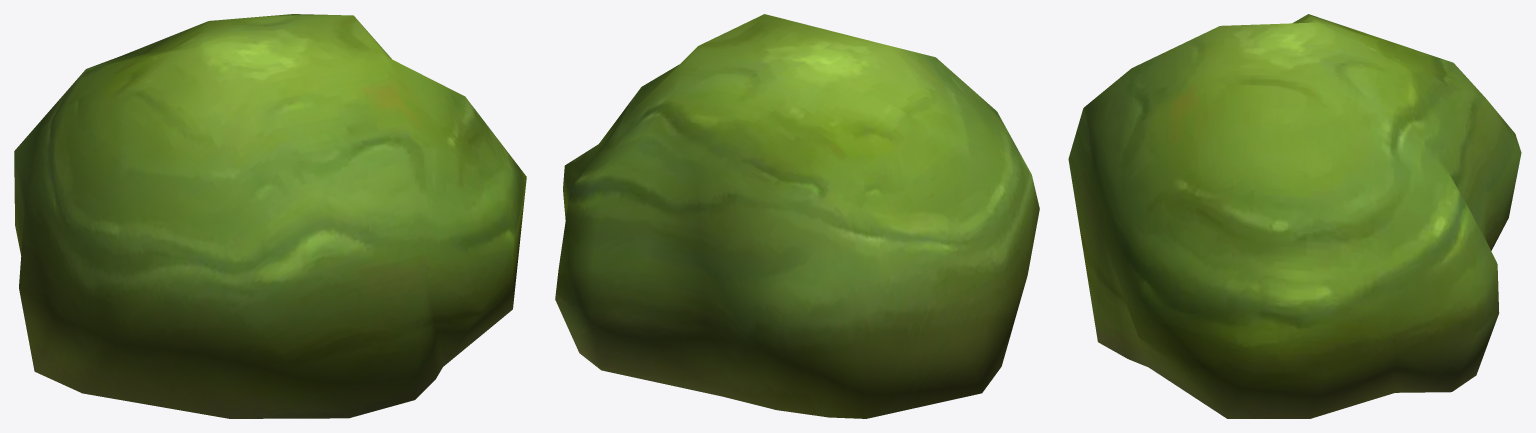
The picture shows the model from 3 angles, left to right: view 1: azimuth 30°, elevation 25°; view 2: azimuth 150°, elevation 25°; view 3: azimuth 270°, elevation 25°; orthographic projection. The views are drawn at different scales.
Size of the model in its own units: 2.81 by 1.72 by 2.56.
1 material, 1 textured.
